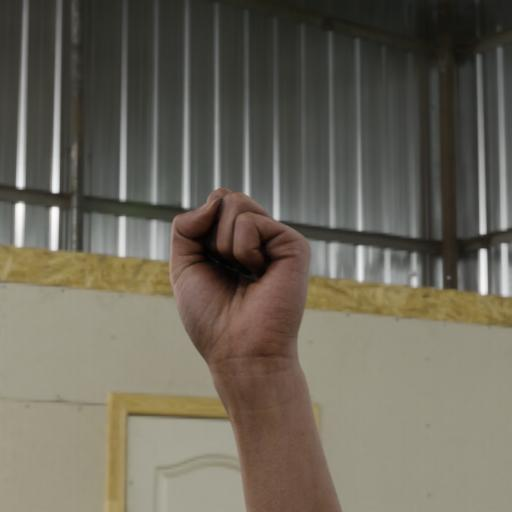S: (157, 164, 328, 394)
